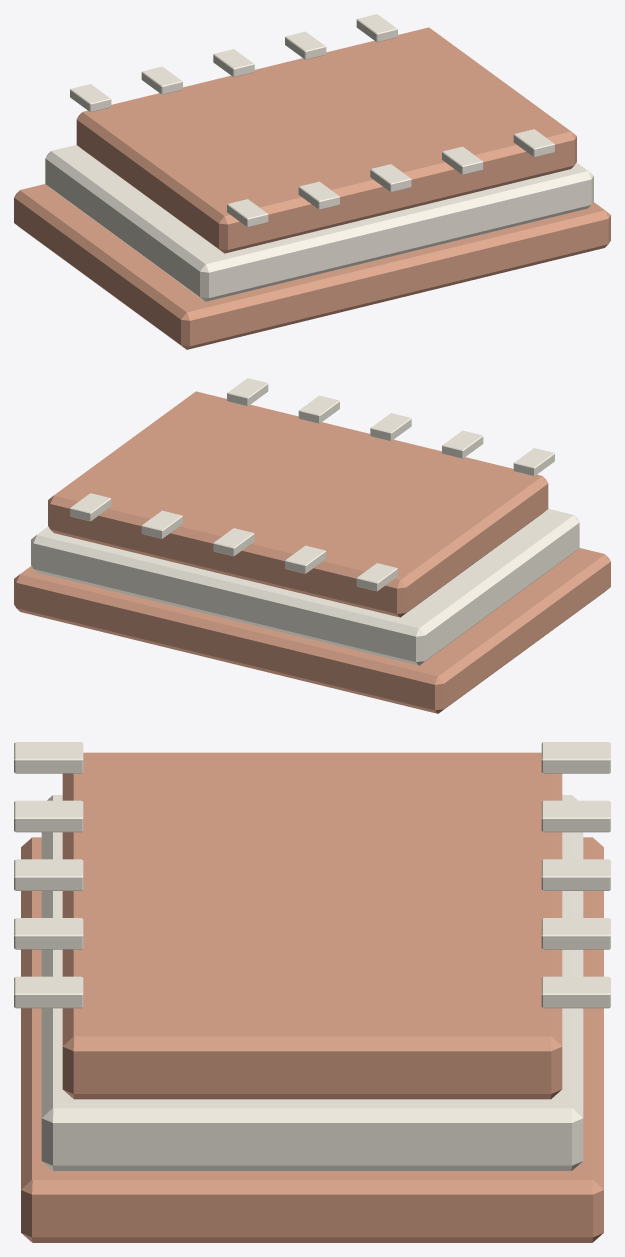
Rendered from bedroom-and-living-room-furniture-throw-blanket-folded-b8e51506.glb.
The picture shows the model from 3 angles, top to bottom: view 1: azimuth 30°, elevation 25°; view 2: azimuth 150°, elevation 25°; view 3: azimuth 270°, elevation 25°; orthographic projection. The views are drawn at different scales.
Parts seen in each view (by area): view 1: throw-blanket-folded; view 2: throw-blanket-folded; view 3: throw-blanket-folded.
Part boxes in pixels (bbox=[...]): throw-blanket-folded: bbox=[14, 14, 610, 349]; throw-blanket-folded: bbox=[14, 378, 610, 713]; throw-blanket-folded: bbox=[14, 742, 610, 1242].
Bounding box in the file's own units: 0.6 × 0.162 × 0.43.
